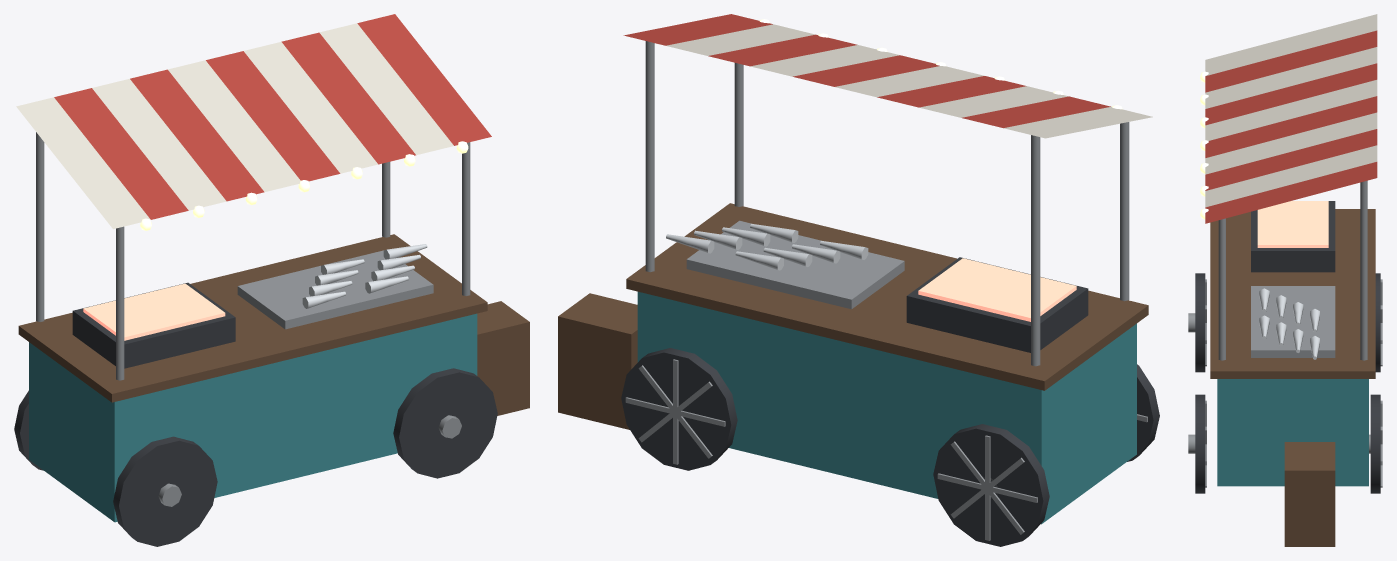
Rendered from prop_fish_cart.glb.
3 renders of one model, left to right at view 1: azimuth 30°, elevation 25°; view 2: azimuth 150°, elevation 25°; view 3: azimuth 270°, elevation 25°, orthographic. The views are drawn at different scales.
Parts seen in each view (by area): view 1: fish_cart.001, fish_cart_glow; view 2: fish_cart.001, fish_cart_glow; view 3: fish_cart.001, fish_cart_glow.
Boxes of the visible parts, x1,y1,x2,y2 form: fish_cart.001: (14,14,529,546); fish_cart_glow: (83,141,468,340); fish_cart.001: (558,14,1159,546); fish_cart_glow: (759,19,1122,321); fish_cart.001: (1188,14,1382,546); fish_cart_glow: (1200,71,1328,247).
Bounding box in the file's own units: 2.8 × 2.18 × 1.15.
